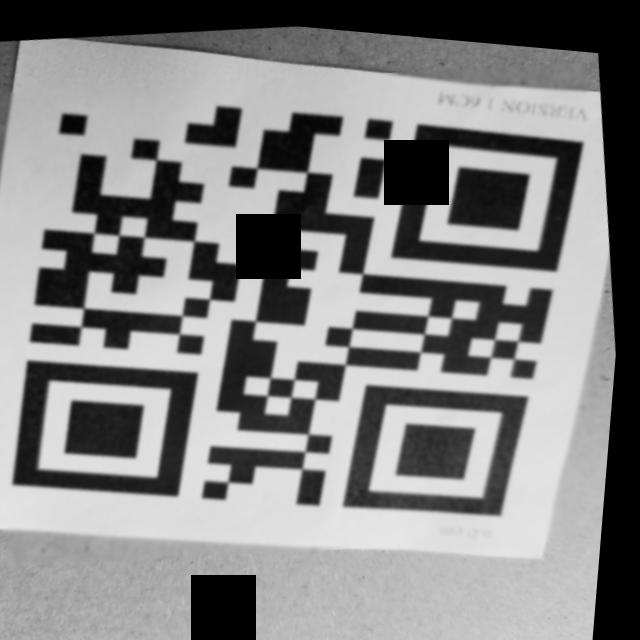QR_CODE: (0, 11, 639, 606)
